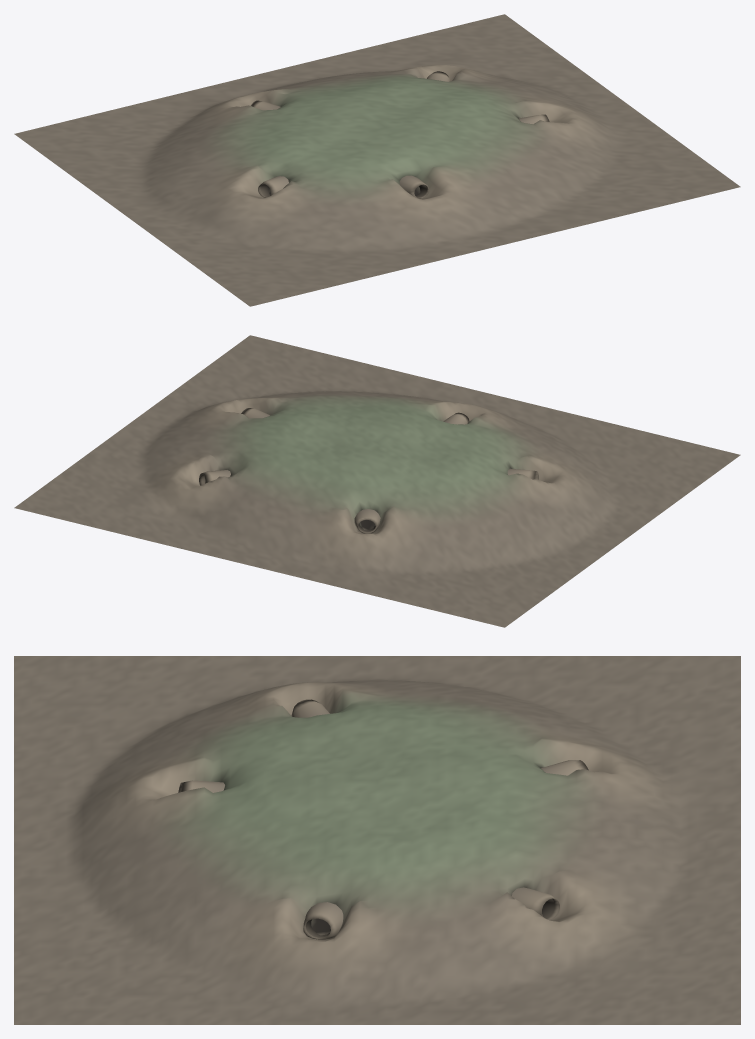
The model's file is warren_mound.glb.
The picture shows the model from 3 angles, top to bottom: view 1: azimuth 30°, elevation 25°; view 2: azimuth 150°, elevation 25°; view 3: azimuth 270°, elevation 25°; orthographic projection. The views are drawn at different scales.
Parts seen in each view (by area): view 1: warren_mound; view 2: warren_mound; view 3: warren_mound.
Part boxes in pixels (bbox=[...]): warren_mound: bbox=[14, 14, 740, 306]; warren_mound: bbox=[14, 335, 740, 627]; warren_mound: bbox=[14, 656, 740, 1024].
Size of the model in its own units: 6 by 0.4986 by 5.
